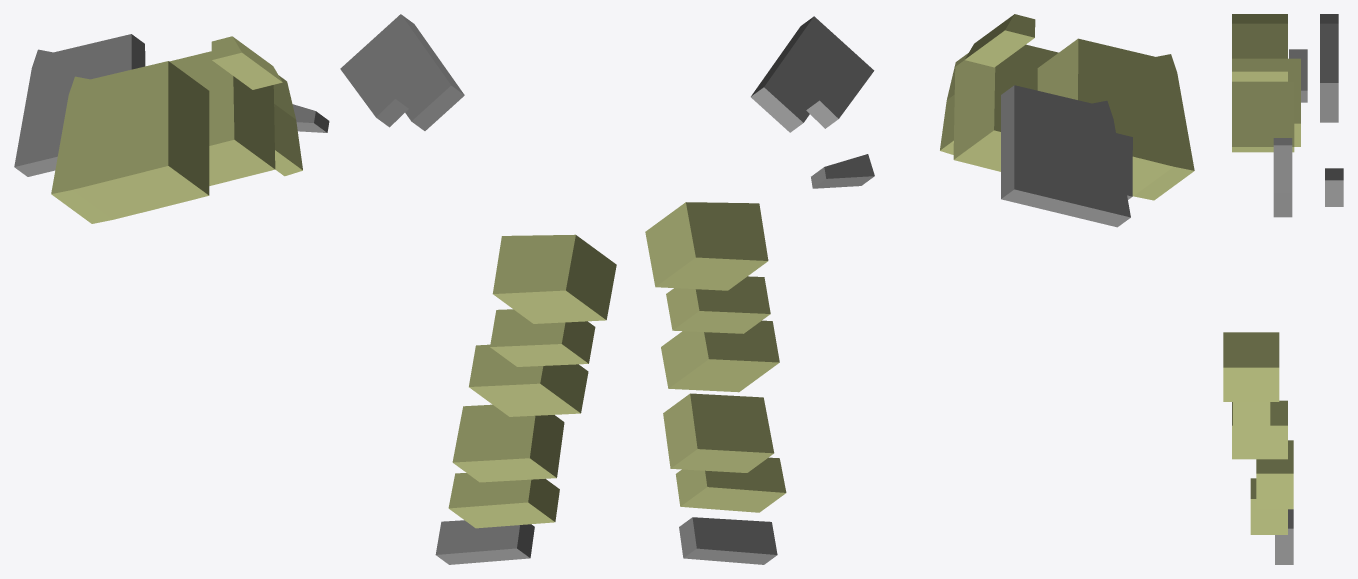
3 views of the same model, side by side, from view 1: azimuth 30°, elevation 25°; view 2: azimuth 150°, elevation 25°; view 3: azimuth 270°, elevation 25° (orthographic). The views are drawn at different scales.
Parts seen in each view (by area): view 1: 0_1_2_0_3_3_2_0; view 2: 0_1_2_0_3_3_2_0; view 3: 0_1_2_0_3_3_2_0.
Boxes of the visible parts, box(x1,y1,x2,y2) form: 0_1_2_0_3_3_2_0: box(14, 14, 616, 564); 0_1_2_0_3_3_2_0: box(645, 14, 1194, 564); 0_1_2_0_3_3_2_0: box(1223, 14, 1343, 564).
Bounding box in the file's own units: 65.97 × 71.2 × 19.29.
